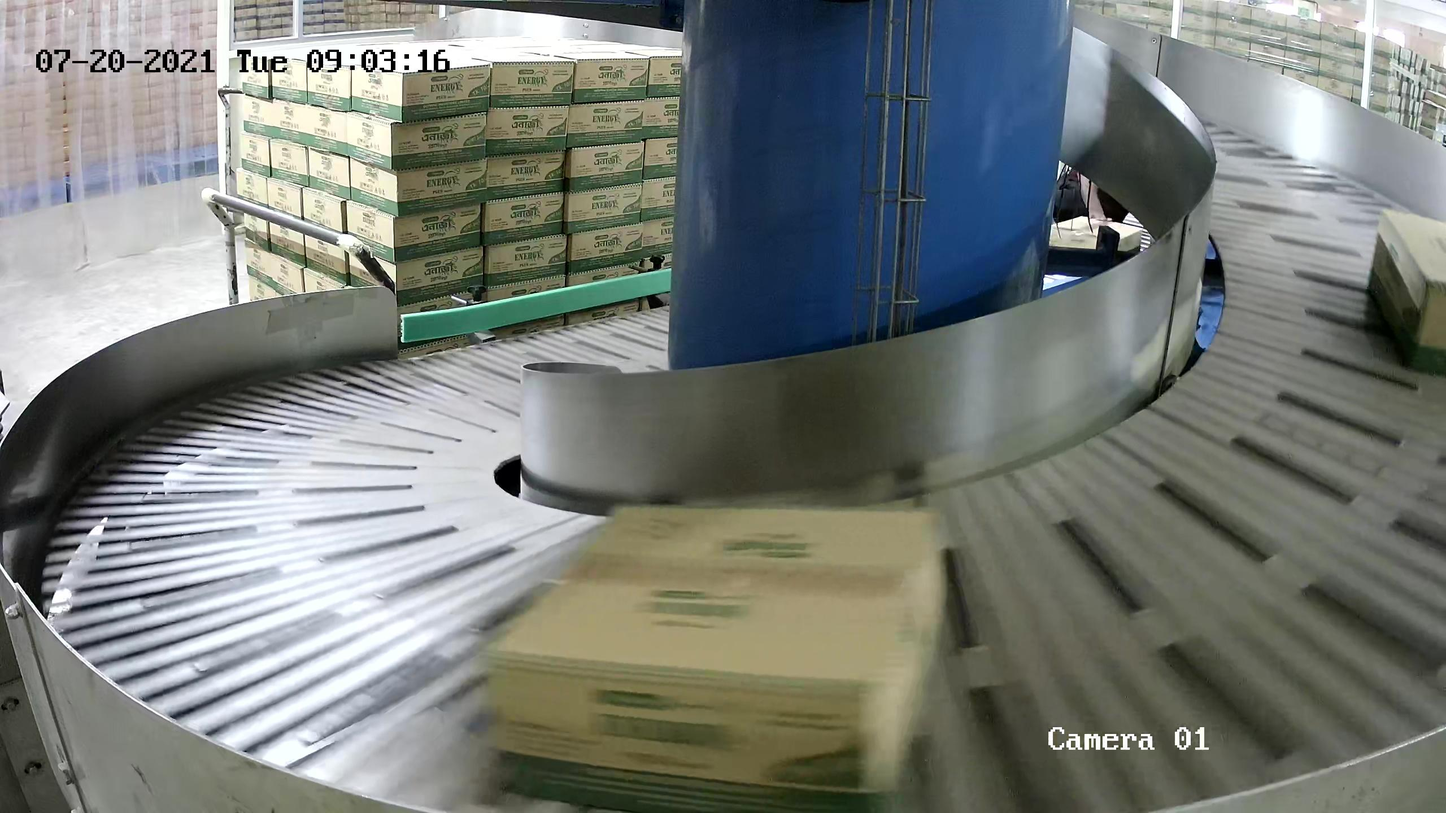Box: (484, 504, 949, 813), (1367, 209, 1446, 378)
